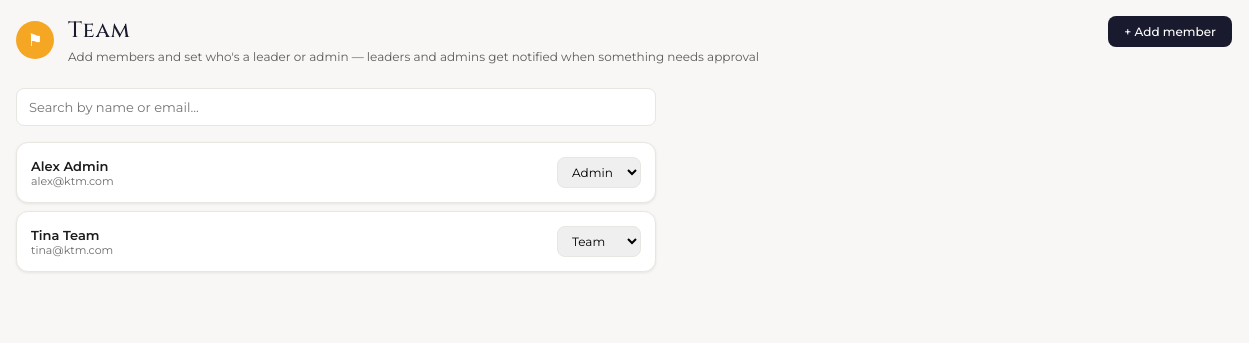
Test: shows an error if the role change is rejected (e.g. last admin)
This screenshot has width=1249, height=343.
Expected: the text "Alex Admin" is shown, [31,158,114,174]
Select "Team" in the dropdown named "Full access — manages the ministry, team roles, and approval" at (599, 172), box [557,157,641,188]
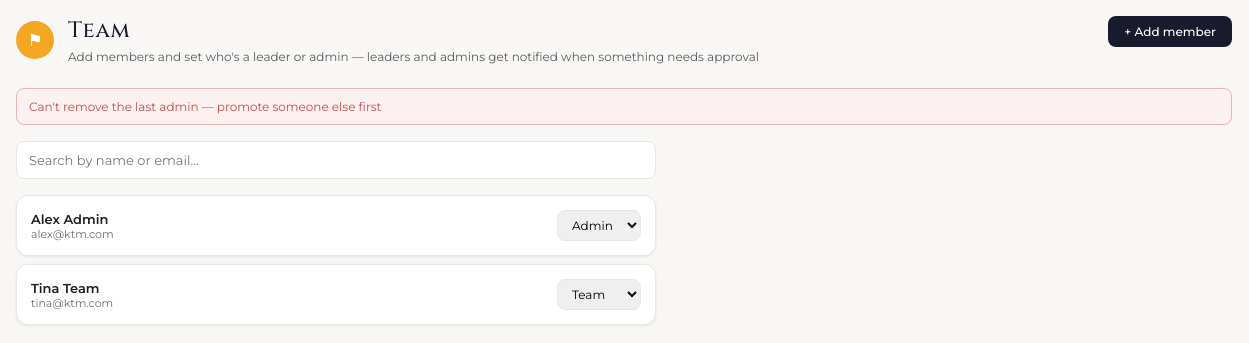
Expected: the text "Can't remove the last admin — promote someone else first" is shown, [16,88,1232,125]
